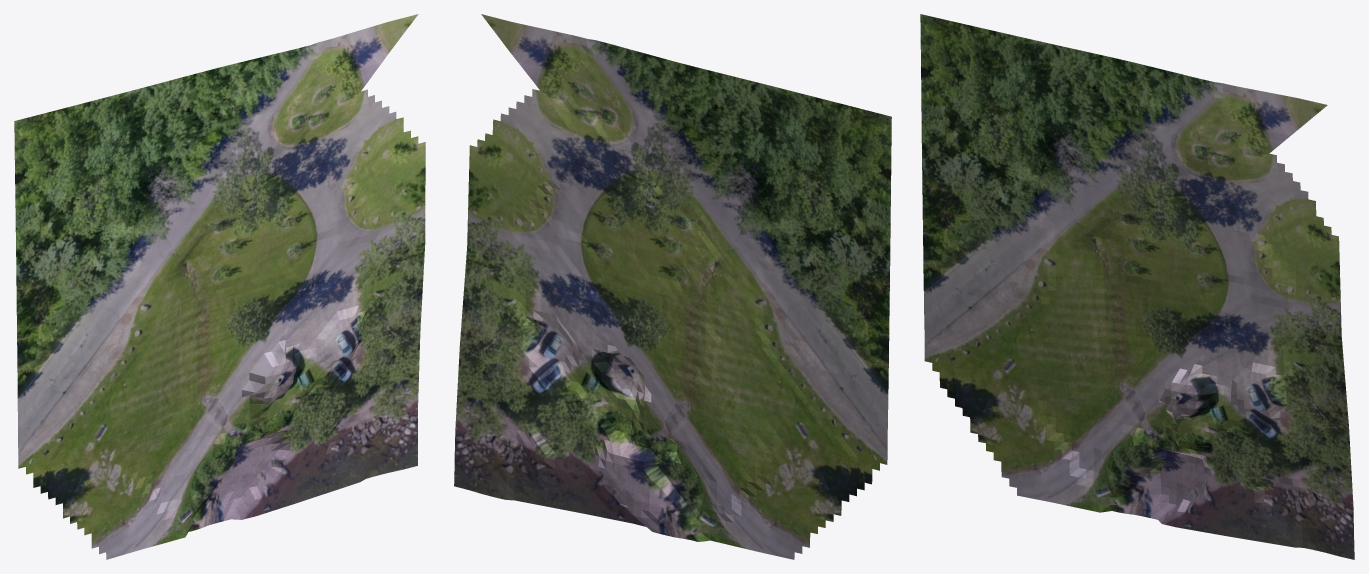
File: odm_textured_model_geo.obj
3 renders of one model, left to right at view 1: azimuth 30°, elevation 25°; view 2: azimuth 150°, elevation 25°; view 3: azimuth 330°, elevation 25°, orthographic.
Size of the model in its own units: 70.62 by 75.32 by 6.01.
Materials: 1 (1 with a texture image).
